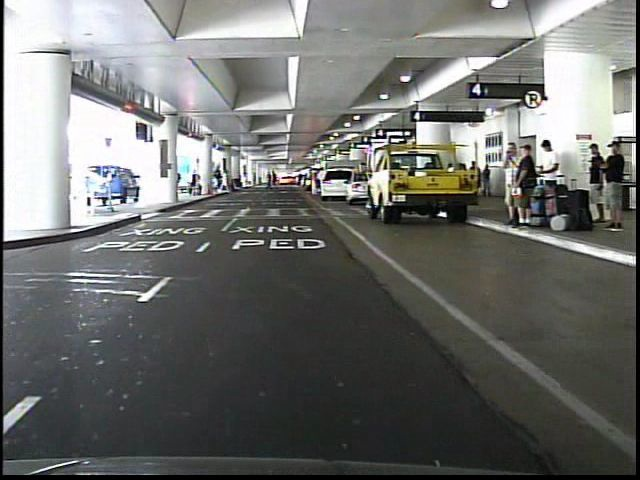person: (495, 140, 518, 223), (601, 139, 622, 229), (310, 165, 326, 199)
